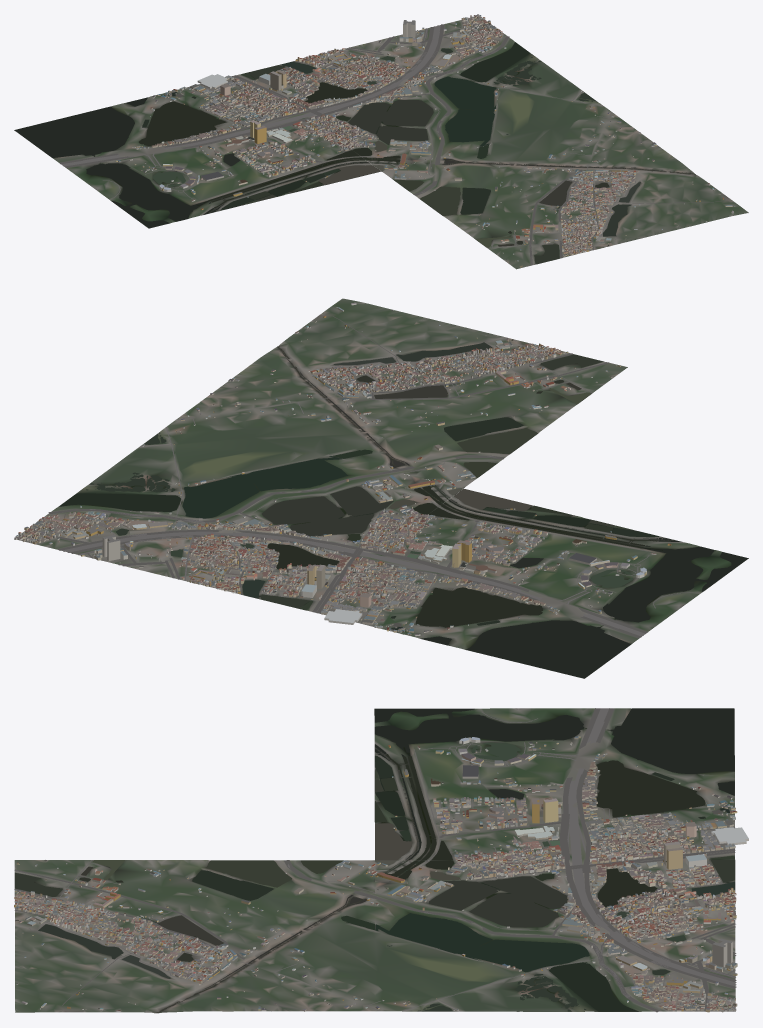
3 renders of one model, top to bottom at view 1: azimuth 30°, elevation 25°; view 2: azimuth 150°, elevation 25°; view 3: azimuth 270°, elevation 25°, orthographic. The views are drawn at different scales.
Visible parts, largest first — view 1: ground, water, buildings, roads; view 2: ground, water, buildings, roads; view 3: ground, water, buildings, roads.
Boxes of the visible parts, x1=… form: ground: x1=14, y1=16, x2=748, y2=269; water: x1=14, y1=42, x2=695, y2=264; buildings: x1=115, y1=14, x2=735, y2=267; roads: x1=59, y1=23, x2=721, y2=265; ground: x1=14, y1=298, x2=748, y2=678; water: x1=58, y1=339, x2=748, y2=678; buildings: x1=14, y1=302, x2=671, y2=636; roads: x1=25, y1=316, x2=693, y2=638; ground: x1=14, y1=708, x2=735, y2=1013; water: x1=15, y1=708, x2=734, y2=1012; buildings: x1=14, y1=735, x2=748, y2=1012; roads: x1=14, y1=708, x2=736, y2=1012.
Bounding box in the file's own units: 2811 × 93.93 × 2860.
